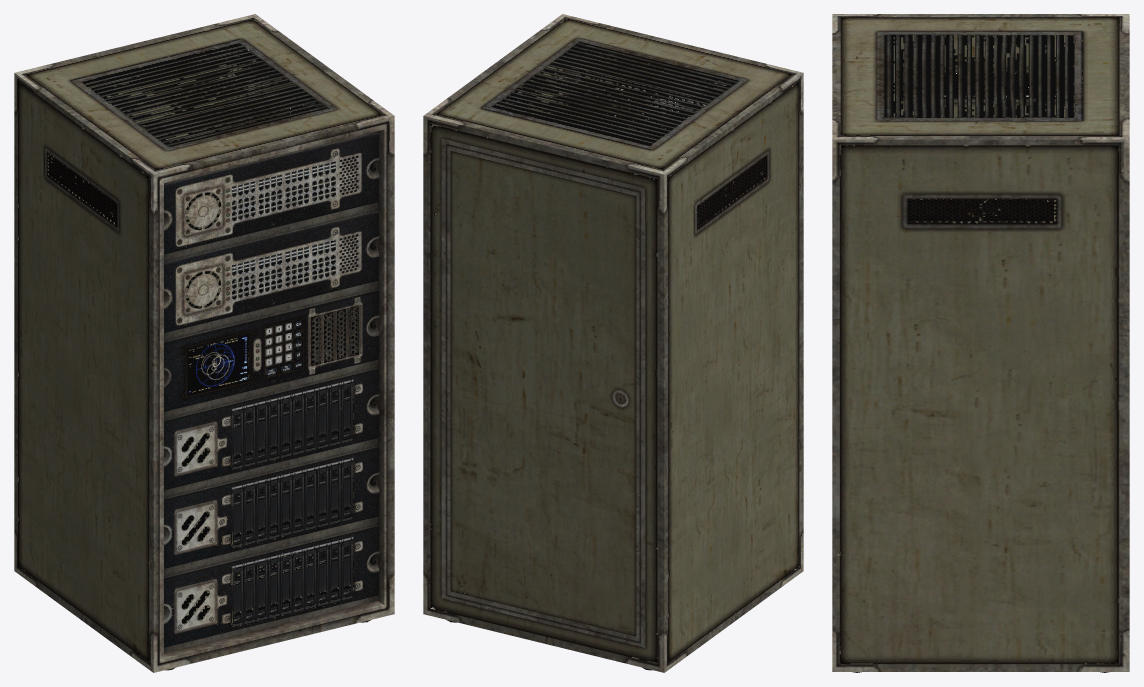
File: server_rack02.dae
3 renders of one model, left to right at view 1: azimuth 30°, elevation 25°; view 2: azimuth 150°, elevation 25°; view 3: azimuth 270°, elevation 25°, orthographic. The views are drawn at different scales.
Parts seen in each view (by area): view 1: polySurface67, pPlane2; view 2: polySurface67; view 3: polySurface67.
Boxes of the visible parts, x1,y1,x2,y2 form: polySurface67: (14, 14, 394, 672); pPlane2: (189, 334, 247, 394); polySurface67: (423, 14, 803, 672); polySurface67: (832, 14, 1129, 672).
Bounding box in the file's own units: 1.13 × 2.25 × 1.12.
